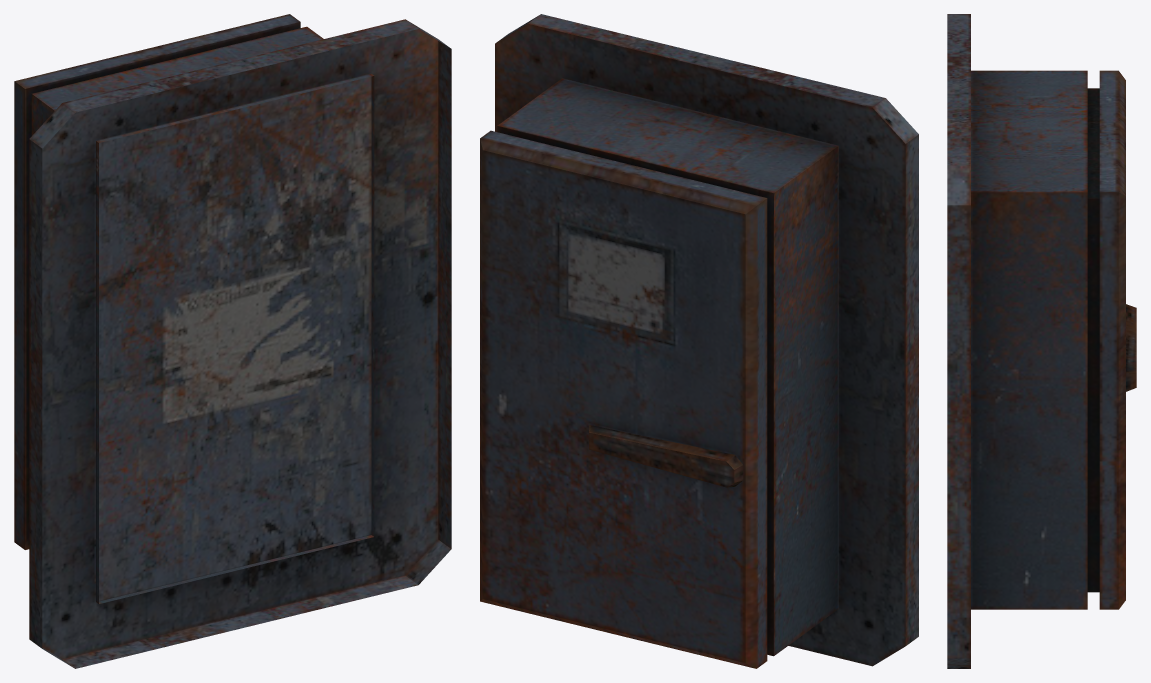
The model's file is WallMeter.FBX.
3 renders of one model, left to right at view 1: azimuth 30°, elevation 25°; view 2: azimuth 150°, elevation 25°; view 3: azimuth 270°, elevation 25°, orthographic. The views are drawn at different scales.
Parts seen in each view (by area): view 1: WallMeter; view 2: WallMeter; view 3: WallMeter.
Part boxes in pixels (left/top/right/bottom): WallMeter: left=14, top=14, right=451, bottom=668; WallMeter: left=480, top=14, right=918, bottom=668; WallMeter: left=947, top=14, right=1136, bottom=668.
Bounding box in the file's own units: 70.37 × 91.44 × 31.22.
